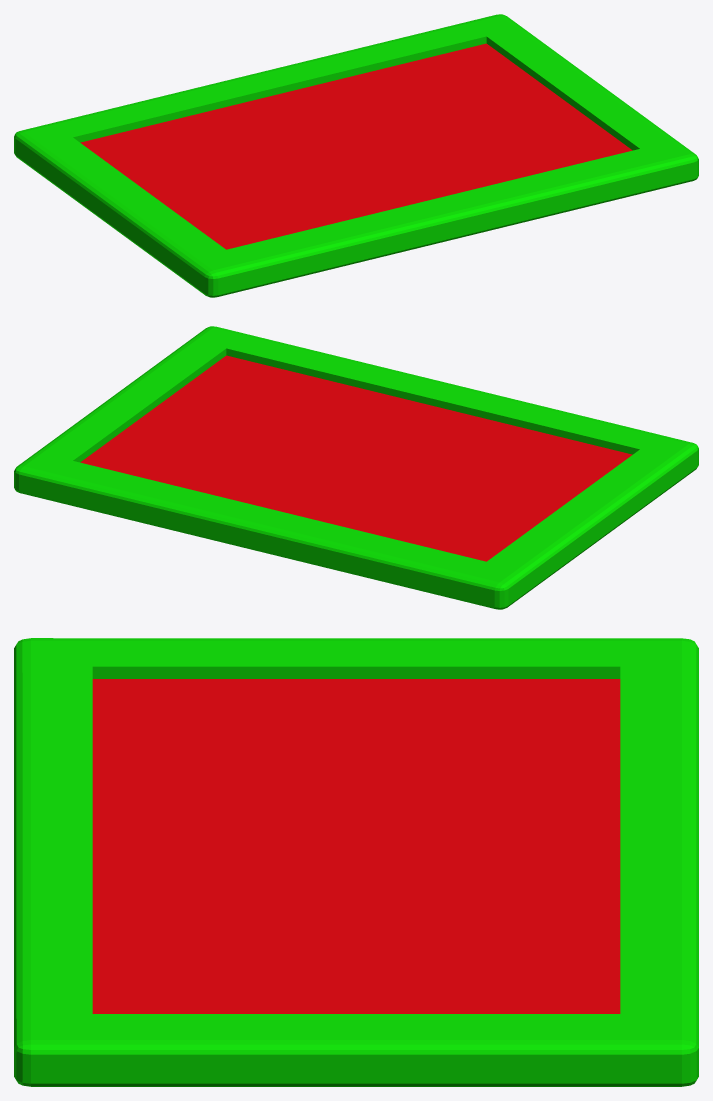
Rendered from readingTablet.fbx.
3 renders of one model, top to bottom at view 1: azimuth 30°, elevation 25°; view 2: azimuth 150°, elevation 25°; view 3: azimuth 270°, elevation 25°, orthographic. The views are drawn at different scales.
Parts seen in each view (by area): view 1: readingTablet; view 2: readingTablet; view 3: readingTablet.
Part boxes in pixels (left/top/right/bottom): readingTablet: left=14, top=14, right=698, bottom=297; readingTablet: left=14, top=326, right=698, bottom=609; readingTablet: left=14, top=638, right=698, bottom=1086.
Bounding box in the file's own units: 38.84 × 1.94 × 27.19.
